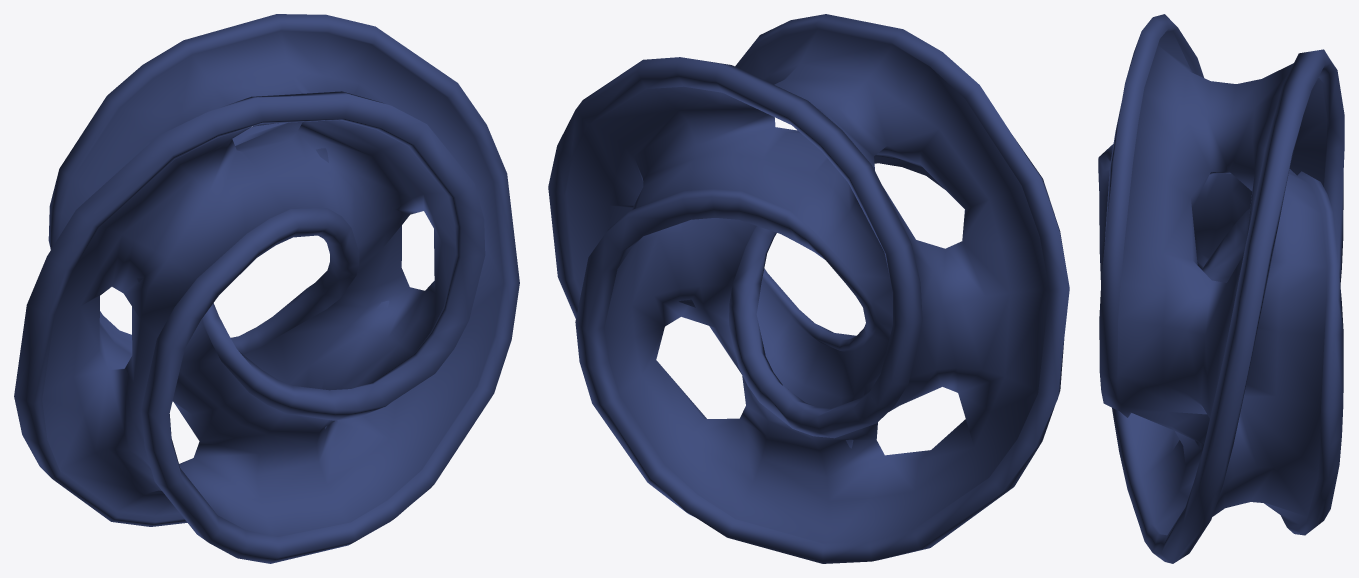
The picture shows the model from 3 angles, left to right: view 1: azimuth 30°, elevation 25°; view 2: azimuth 150°, elevation 25°; view 3: azimuth 270°, elevation 25°; orthographic projection. The views are drawn at different scales.
Visible parts, largest first — view 1: Moebius_06; view 2: Moebius_06; view 3: Moebius_06.
Boxes of the visible parts, left/top/right/bottom form: Moebius_06: left=14, top=14, right=519, bottom=563; Moebius_06: left=548, top=14, right=1069, bottom=563; Moebius_06: left=1098, top=14, right=1344, bottom=563.
Bounding box in the file's own units: 332 × 305 × 145.
Materials: 1 (1 with a texture image).
